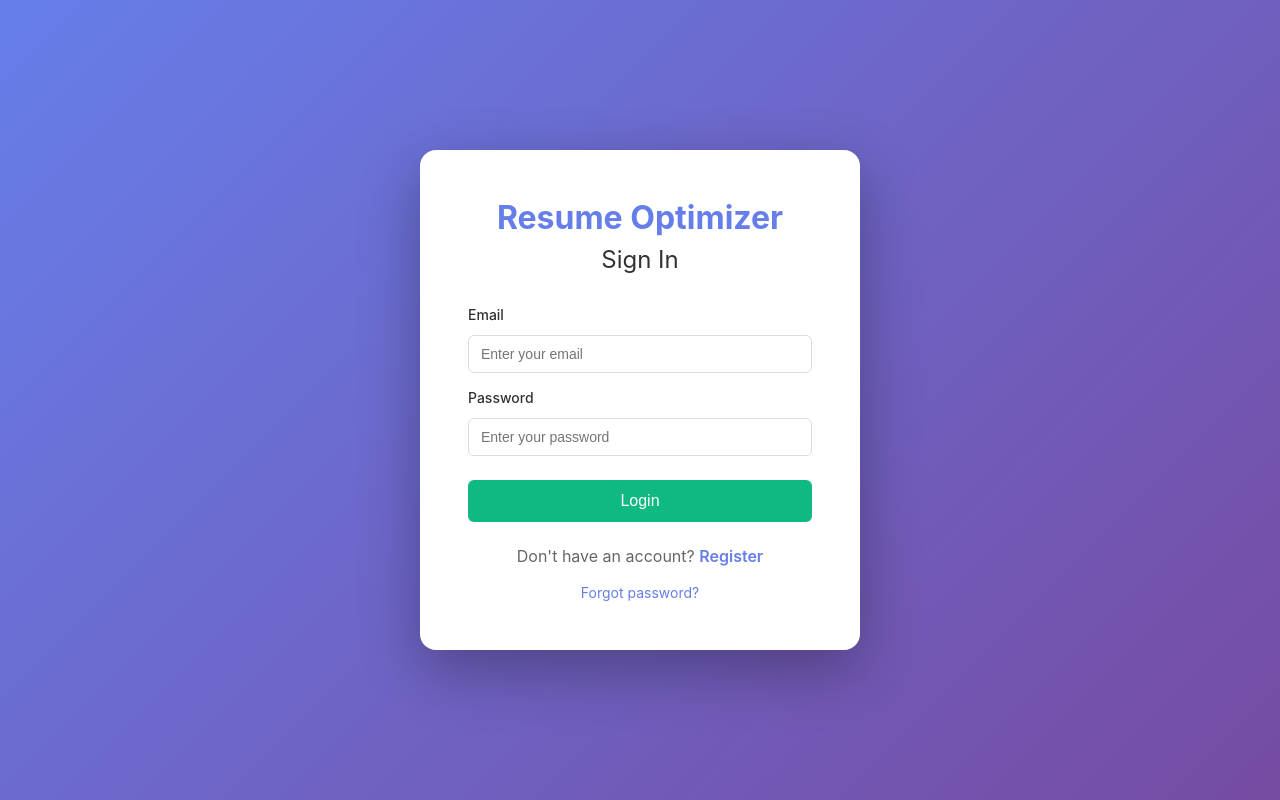
Test case: Login › shows error-message on failed login
Type "bad@test.com" into the field with placeholder "Enter your email".
click(640, 354); type("bad@test.com")  # box x1=468 y1=335 x2=812 y2=373
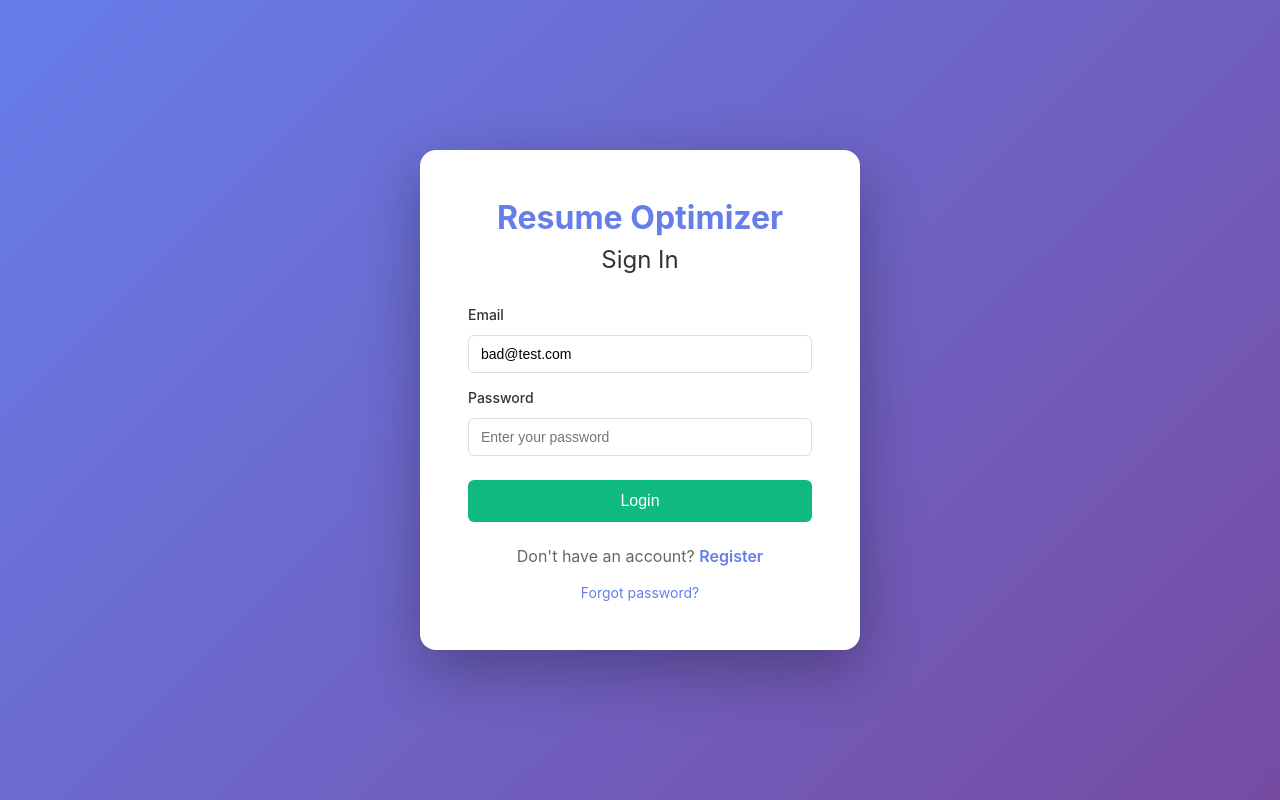
Type "wrong" into the password field with placeholder "Enter your password".
click(640, 437); type("wrong")  # box x1=468 y1=418 x2=812 y2=456
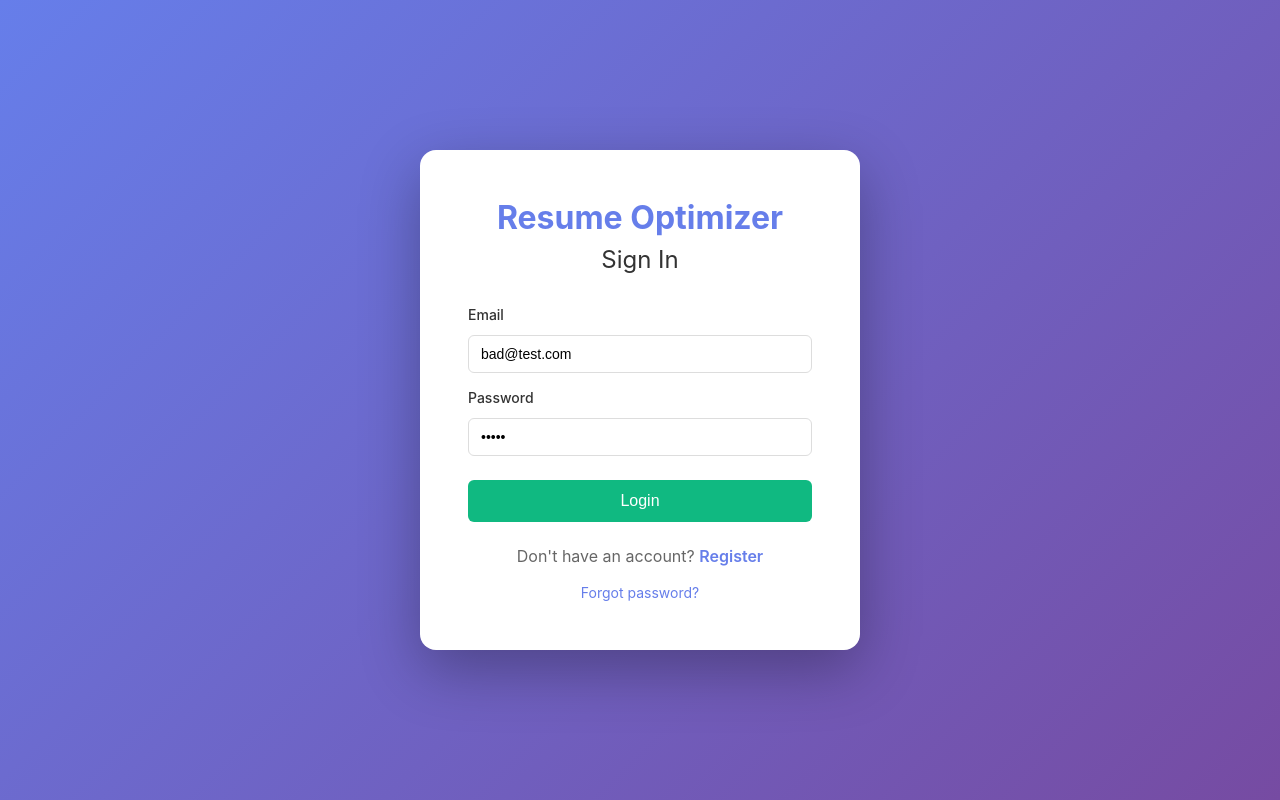
Submit the form with placeholder "Enter your email", box x1=468 y1=306 x2=812 y2=522
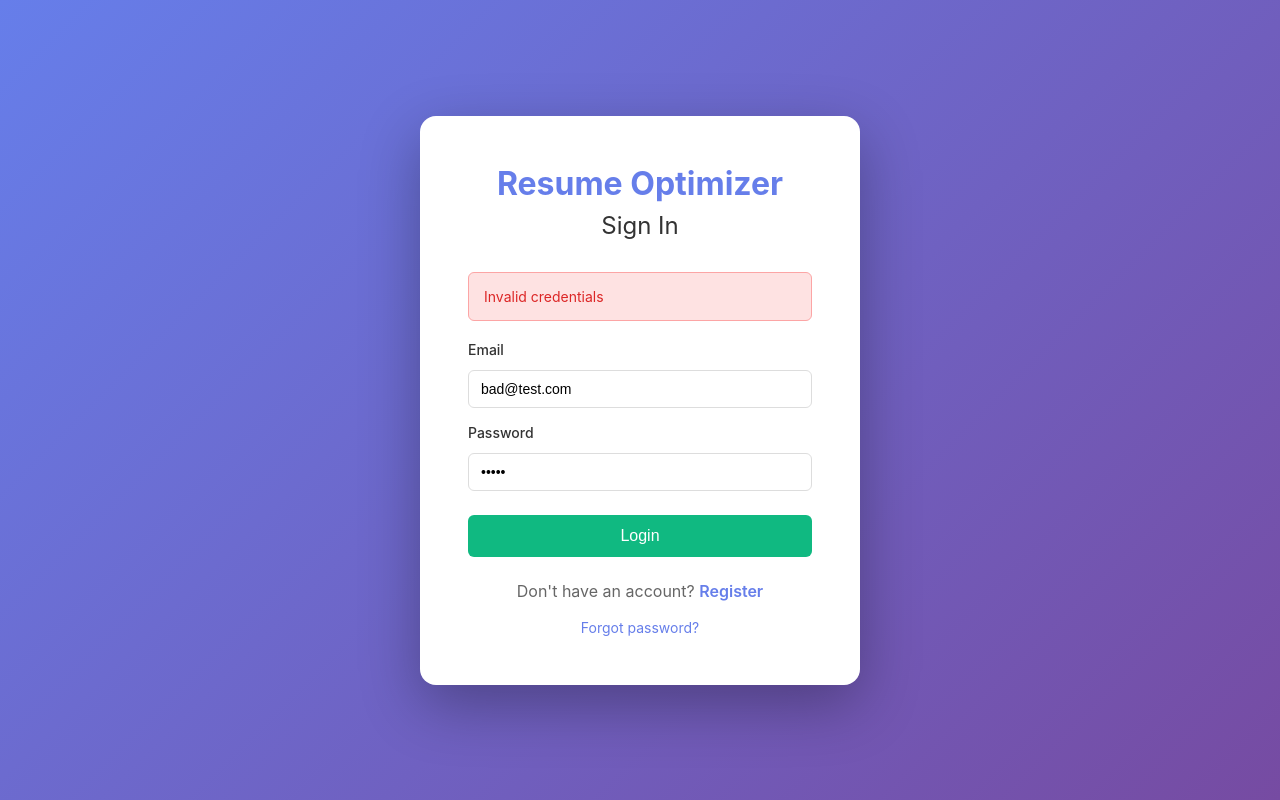
Expected: the text "Invalid credentials" is shown, x1=468 y1=272 x2=812 y2=320
